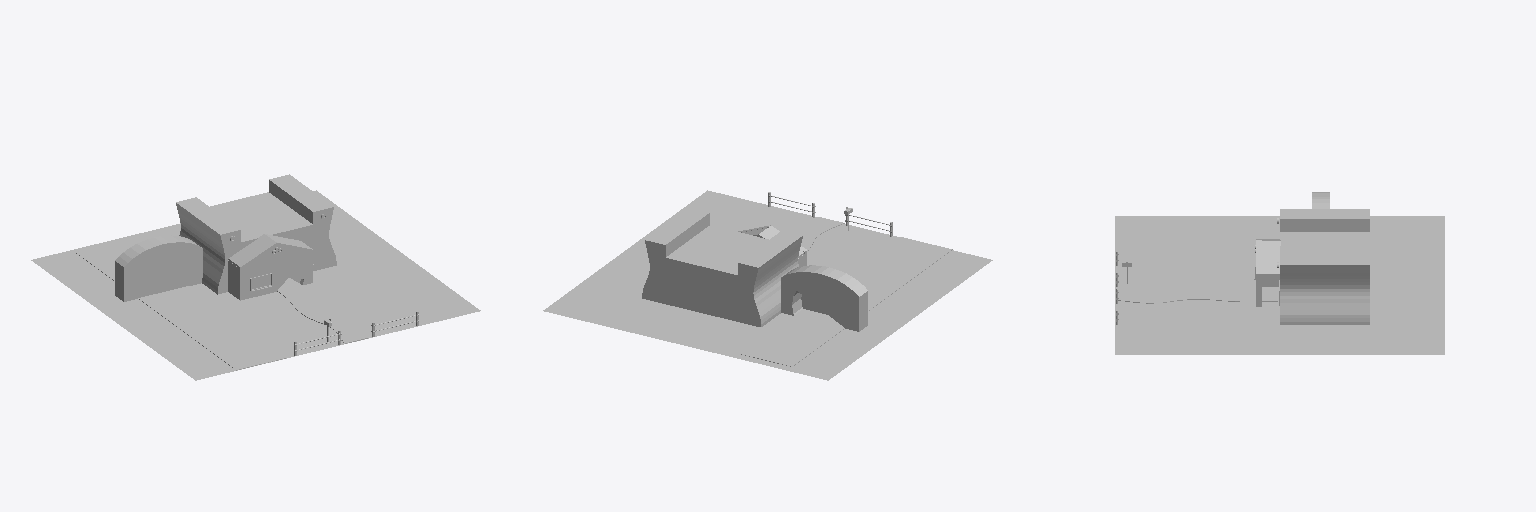
File: Frijolito_casa_v1.obj
The picture shows the model from 3 angles: view 1: azimuth 30°, elevation 25°; view 2: azimuth 150°, elevation 25°; view 3: azimuth 270°, elevation 25°; orthographic projection.
Parts seen in each view (by area): view 1: pPlane1, pCube16, pCube14, pCube1 polySurface9, pCube1 polySurface6 polySurface4 polySurface1, pCube11, polySurface2 pCube1, pCube15, pCube1 polySurface4 polySurface1 polySurface7; view 2: pPlane1, pCube16, pCube1 polySurface6 polySurface4 polySurface1, pCube14, pCube1 polySurface9, polySurface2 pCube1, pCube15, pCube1 polySurface4 polySurface1 polySurface7; view 3: pPlane1, polySurface2 pCube1, pCube16, pCube1 polySurface6 polySurface4 polySurface1, pCube15, pCube1 polySurface4 polySurface1 polySurface8, pCube1 polySurface9, pCube9.
Boxes of the visible parts, x1,y1,x2,y2 form: pPlane1: [31, 190, 480, 380]; pCube16: [76, 241, 286, 370]; pCube14: [115, 235, 202, 301]; pCube1 polySurface9: [176, 197, 240, 294]; pCube1 polySurface6 polySurface4 polySurface1: [210, 192, 312, 249]; pCube11: [238, 241, 312, 300]; polySurface2 pCube1: [269, 174, 336, 270]; pCube15: [277, 278, 368, 343]; pCube1 polySurface4 polySurface1 polySurface7: [269, 180, 312, 223]; pPlane1: [543, 190, 992, 380]; pCube16: [741, 237, 952, 366]; pCube1 polySurface6 polySurface4 polySurface1: [666, 225, 768, 321]; pCube14: [781, 265, 867, 331]; pCube1 polySurface9: [738, 230, 802, 326]; polySurface2 pCube1: [642, 207, 709, 303]; pCube15: [792, 217, 844, 250]; pCube1 polySurface4 polySurface1 polySurface7: [666, 213, 709, 256]; pPlane1: [1115, 216, 1444, 354]; polySurface2 pCube1: [1280, 255, 1369, 324]; pCube16: [1115, 235, 1435, 259]; pCube1 polySurface6 polySurface4 polySurface1: [1280, 232, 1369, 254]; pCube15: [1115, 287, 1278, 303]; pCube1 polySurface4 polySurface1 polySurface8: [1280, 219, 1369, 231]; pCube1 polySurface9: [1280, 209, 1369, 218]; pCube9: [1262, 241, 1280, 275].
Size of the model in its own units: 44.32 by 8.78 by 44.32.